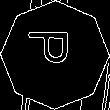P_E: (29, 36, 81, 74)
